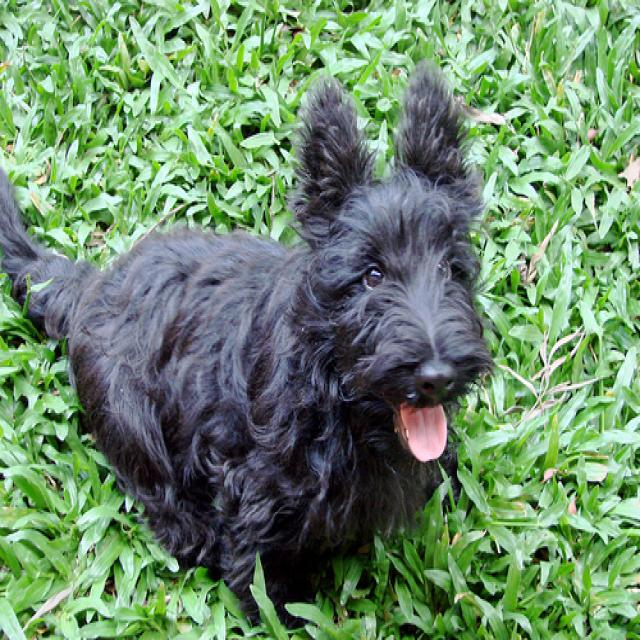dog-scottish_terrier: (1, 49, 570, 637)
